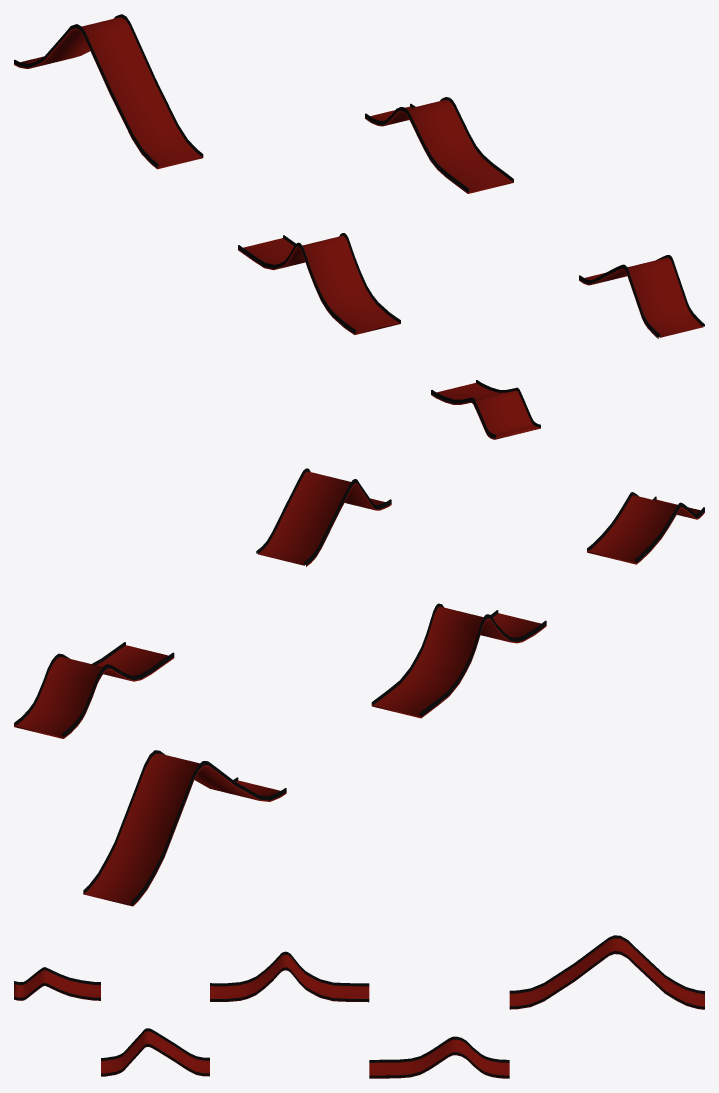
The model's file is rampa.fbx.
The picture shows the model from 3 angles, top to bottom: view 1: azimuth 30°, elevation 25°; view 2: azimuth 150°, elevation 25°; view 3: azimuth 270°, elevation 25°; orthographic projection. The views are drawn at different scales.
Visible parts, largest first — view 1: Cube.001, Cube.003, Cube.002, Cube.004, Cube.005; view 2: Cube.001, Cube.003, Cube.002, Cube.004, Cube.005; view 3: Cube.001, Cube.003, Cube.002, Cube.004, Cube.005.
Part boxes in pixels (<box>): Cube.001: <box>14,14,203,169</box>; Cube.003: <box>238,233,400,334</box>; Cube.002: <box>365,97,513,193</box>; Cube.004: <box>579,255,704,338</box>; Cube.005: <box>431,380,540,439</box>; Cube.001: <box>83,750,286,906</box>; Cube.003: <box>371,603,546,718</box>; Cube.002: <box>14,642,174,738</box>; Cube.004: <box>256,468,391,566</box>; Cube.005: <box>587,492,704,564</box>; Cube.001: <box>509,935,704,1009</box>; Cube.003: <box>210,951,369,1002</box>; Cube.002: <box>369,1036,509,1078</box>; Cube.004: <box>101,1028,209,1076</box>; Cube.005: <box>14,967,100,1000</box>.
Size of the model in its own units: 11240 by 3331 by 35251.
